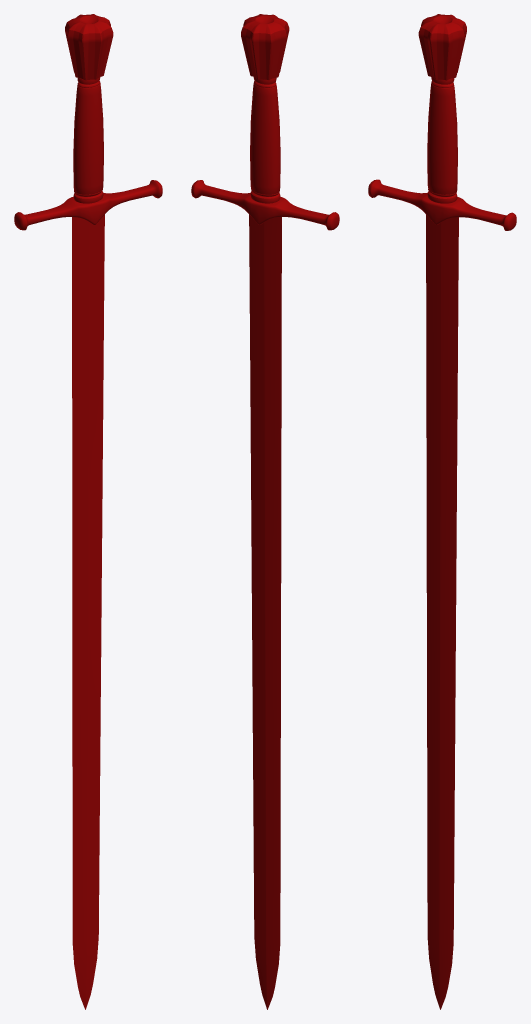
The model's file is SM_Sword.fbx.
The picture shows the model from 3 angles, left to right: view 1: azimuth 30°, elevation 25°; view 2: azimuth 150°, elevation 25°; view 3: azimuth 330°, elevation 25°; orthographic projection.
Visible parts, largest first — view 1: SM_Sword; view 2: SM_Sword; view 3: SM_Sword.
Boxes of the visible parts, x1=… form: SM_Sword: x1=14, y1=14, x2=162, y2=1009; SM_Sword: x1=191, y1=14, x2=339, y2=1009; SM_Sword: x1=368, y1=14, x2=516, y2=1009.
Size of the model in its own units: 19.7 by 5.97 by 131.
